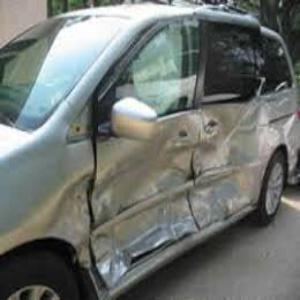door: (96, 131, 264, 228)
